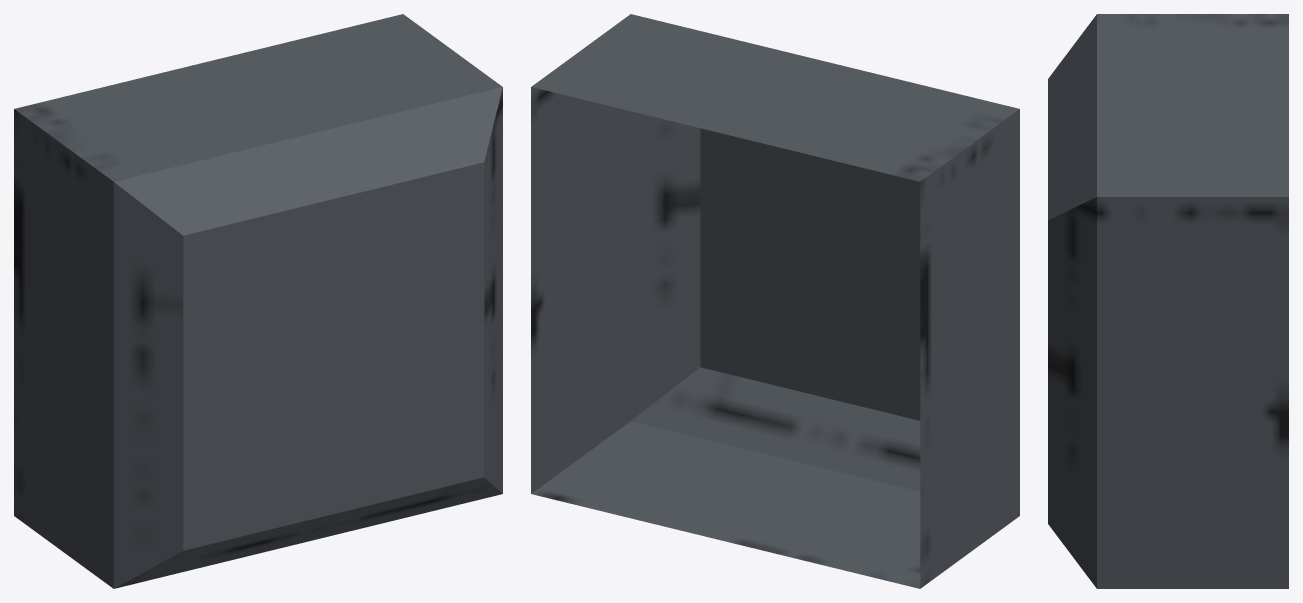
File: ElectricityBoxSmall.FBX
The picture shows the model from 3 angles, left to right: view 1: azimuth 30°, elevation 25°; view 2: azimuth 150°, elevation 25°; view 3: azimuth 270°, elevation 25°; orthographic projection. The views are drawn at different scales.
Parts seen in each view (by area): view 1: ElectricityBoxSmall; view 2: ElectricityBoxSmall; view 3: ElectricityBoxSmall.
Boxes of the visible parts, x1,y1,x2,y2 form: ElectricityBoxSmall: [14, 14, 502, 588]; ElectricityBoxSmall: [531, 14, 1019, 588]; ElectricityBoxSmall: [1048, 14, 1288, 588].
Size of the model in its own units: 4.34 by 4.34 by 2.42.
